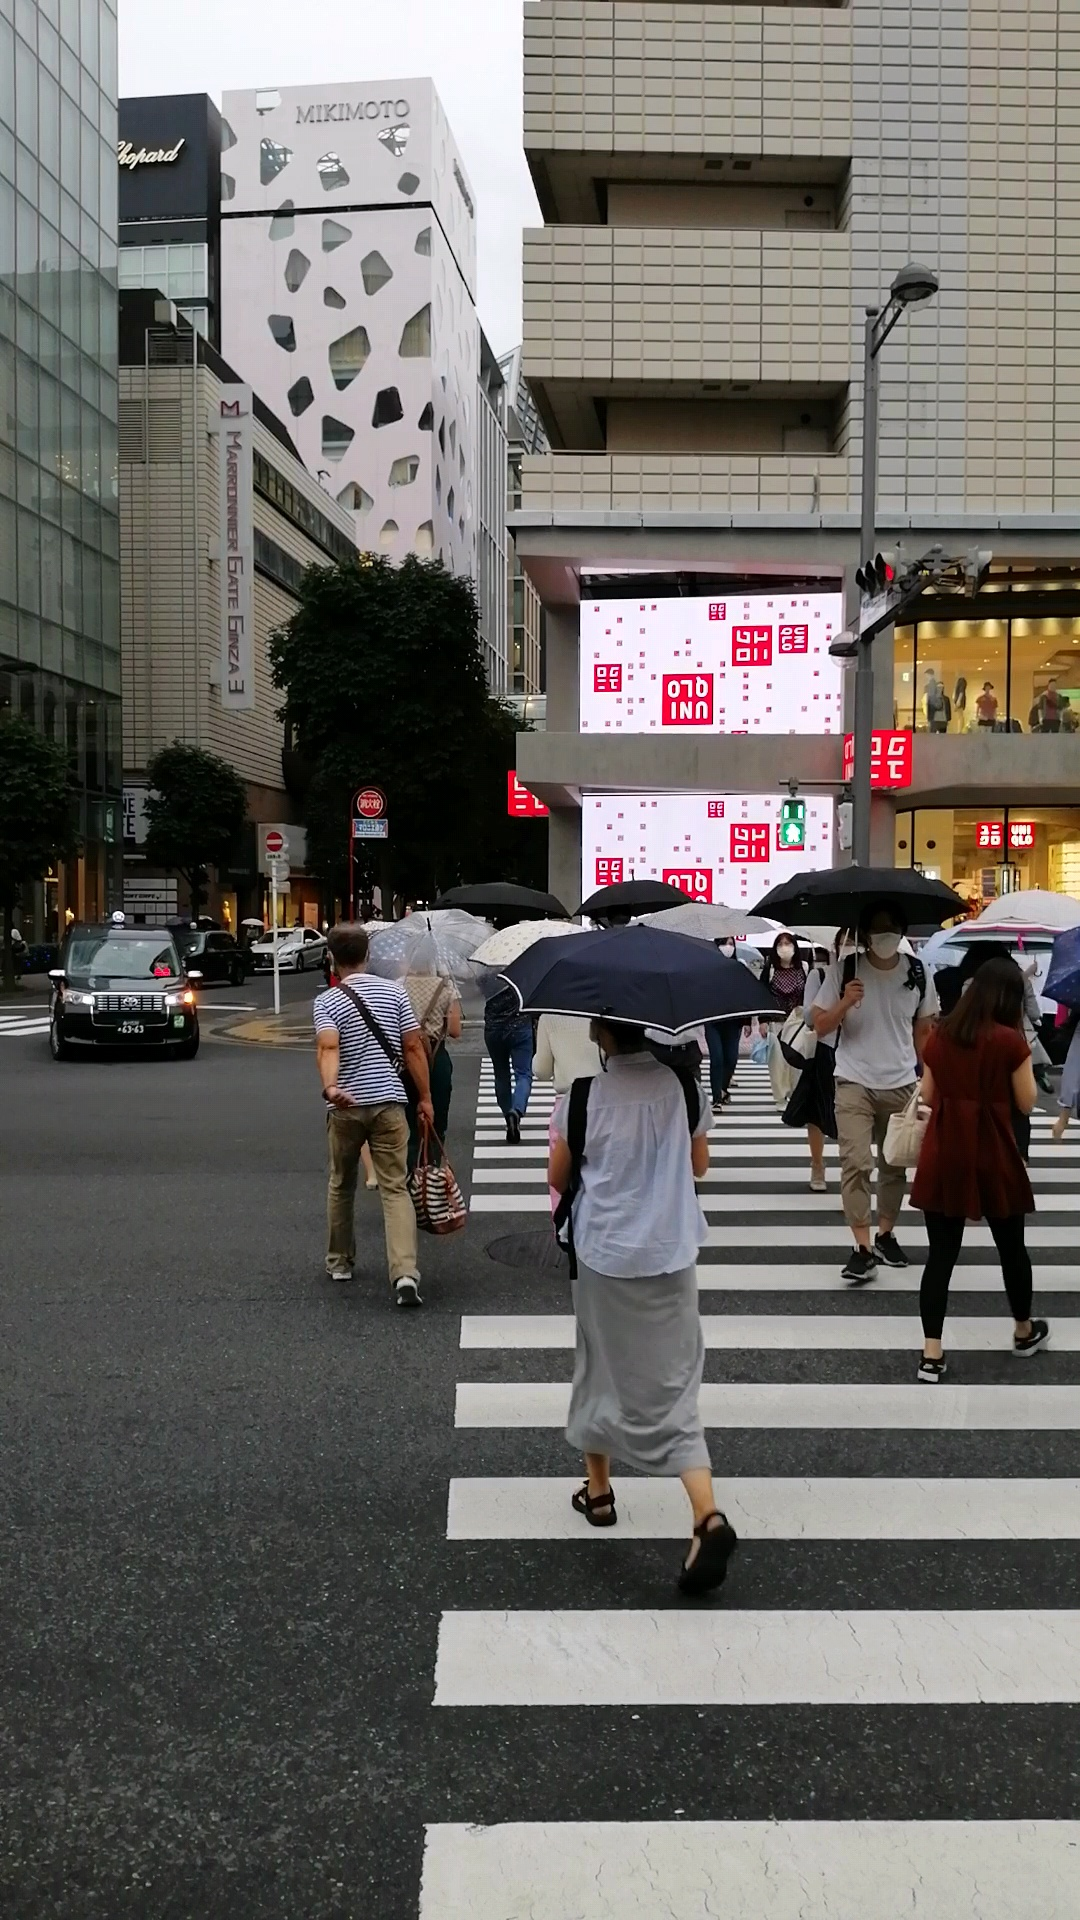green: (779, 796, 803, 847)
